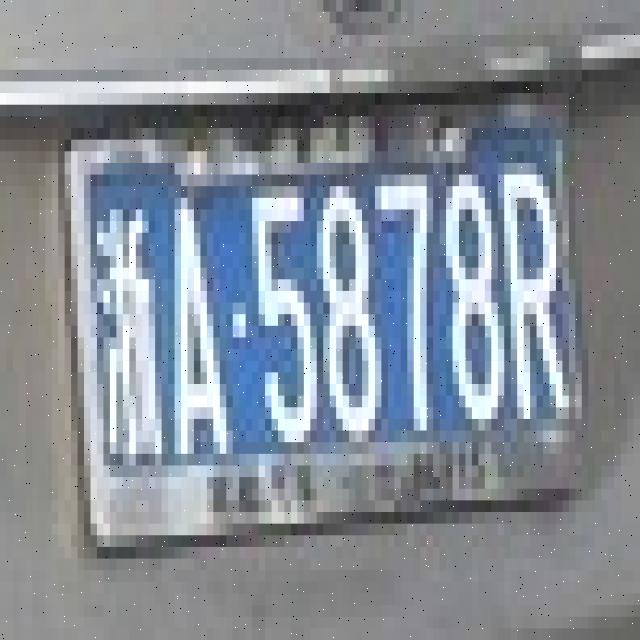licenseplate: (62, 89, 594, 552)
